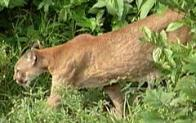OncaParda: (9, 11, 187, 113)
